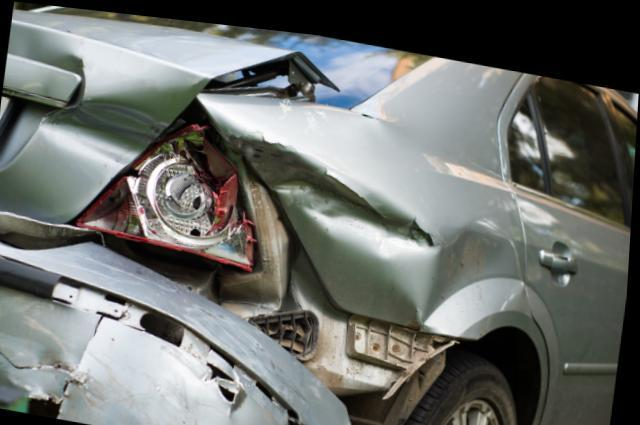crack: (0, 349, 75, 371), (206, 357, 242, 396), (97, 313, 109, 335)
dent: (238, 121, 524, 317), (43, 74, 207, 160)
dislocated part: (0, 148, 477, 425)
lamp broken: (76, 93, 265, 264)
scratch: (91, 256, 315, 406), (75, 348, 231, 425)
